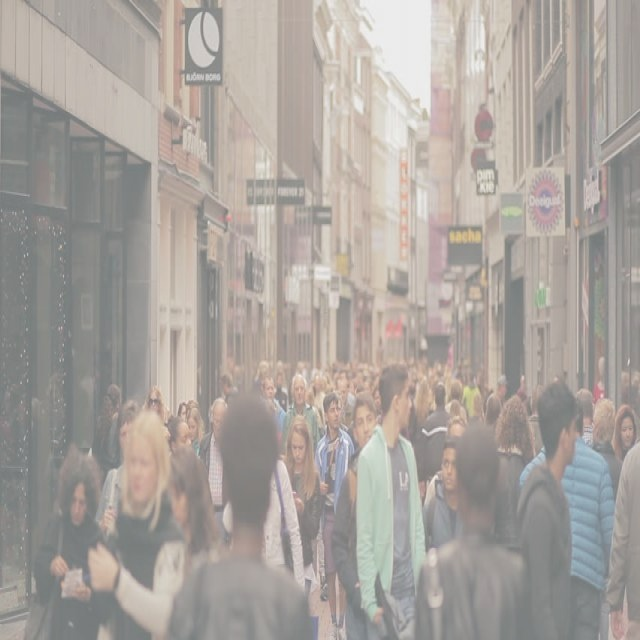pessoa: (162, 384, 318, 639), (412, 417, 532, 639), (517, 393, 616, 639), (84, 406, 187, 638), (352, 357, 431, 639), (17, 441, 108, 639), (514, 374, 580, 638), (157, 444, 229, 639), (329, 389, 382, 639), (312, 388, 357, 639), (3, 365, 67, 531), (280, 369, 321, 583), (279, 412, 323, 603), (216, 350, 382, 400), (93, 396, 144, 543), (492, 392, 537, 555), (404, 348, 534, 403), (197, 396, 230, 548), (423, 436, 463, 550), (423, 414, 466, 509), (419, 379, 452, 477), (100, 383, 126, 481), (591, 354, 639, 406), (146, 384, 202, 427), (573, 386, 605, 454), (261, 372, 287, 455), (526, 382, 546, 460), (612, 403, 638, 461), (610, 406, 638, 458), (412, 376, 432, 444), (86, 412, 112, 462), (186, 406, 208, 458), (444, 377, 468, 423), (334, 374, 354, 429), (445, 397, 468, 440), (167, 416, 192, 454), (483, 391, 503, 436), (372, 382, 384, 426)
